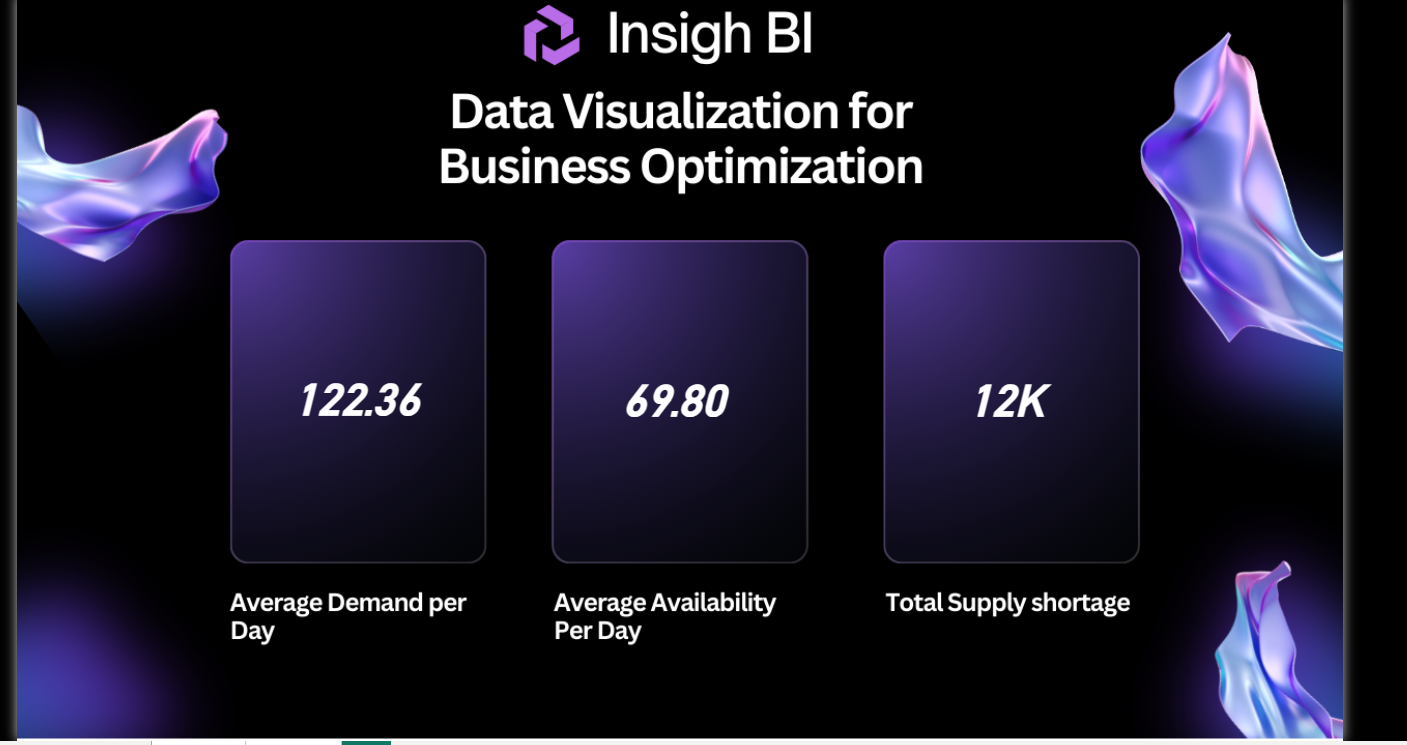

Layout of this report page (visuals, bound fields, positions):
{"tool":"powerbi","page":{"name":"demand_supply_dashboard","canvas":[1280,720],"ordinal":0},"visuals":[{"type":"advanceCardE03760C5AB684758B56AA29F9E6C257B","fields":{"mainMeasure":["Measures Table 1.Average Demand Per Day"]},"box":[213.5,249.7,231.6,283.5],"z":0},{"type":"advanceCardE03760C5AB684758B56AA29F9E6C257B","fields":{"mainMeasure":["Measures Table 1.Average Availibility Per Day"]},"box":[513.9,317.3,244.9,149.6],"z":1000},{"type":"advanceCardE03760C5AB684758B56AA29F9E6C257B","fields":{"mainMeasure":["Measures Table 1.Total Supply Shortage"]},"box":[842.1,317.3,232.8,149.6],"z":2000}]}

Visuals, with their boxes on the page's 1280x720 design canvas (x1, y1, x2, y2). These are canvas units, not pixel positions in the 1407x745 screenshot, which may show the page scaled, cropped or inside an application window:
advanceCardE03760C5AB684758B56AA29F9E6C257B - Measures Table 1.Average Demand Per Day: [left=214, top=250, right=445, bottom=533]
advanceCardE03760C5AB684758B56AA29F9E6C257B - Measures Table 1.Average Availibility Per Day: [left=514, top=317, right=759, bottom=467]
advanceCardE03760C5AB684758B56AA29F9E6C257B - Measures Table 1.Total Supply Shortage: [left=842, top=317, right=1075, bottom=467]
